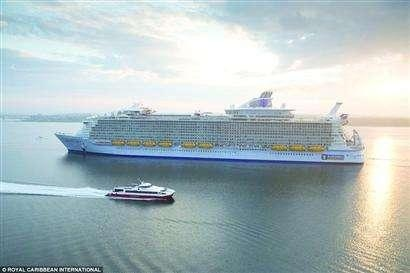yacht: (104, 178, 176, 203)
youlun: (57, 94, 370, 164)
